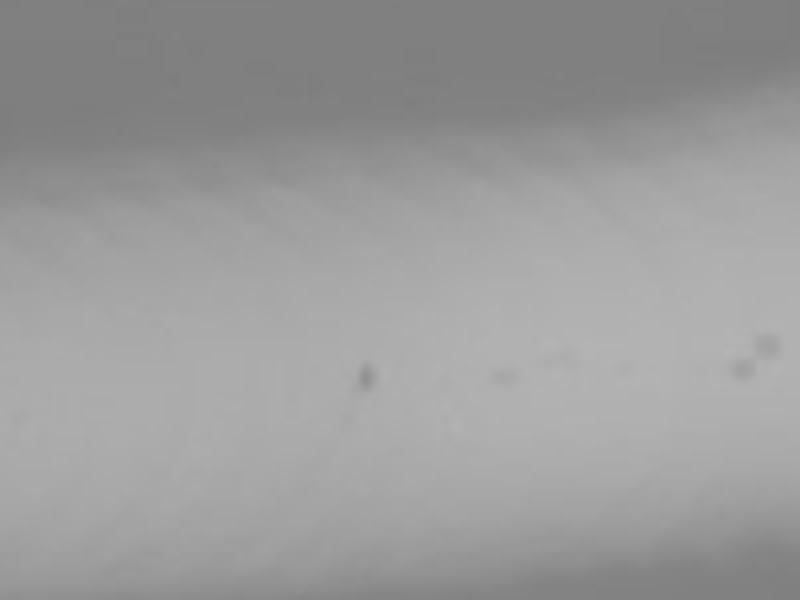defect: (751, 330, 781, 360), (729, 353, 755, 383), (489, 362, 517, 388), (356, 360, 376, 390)
